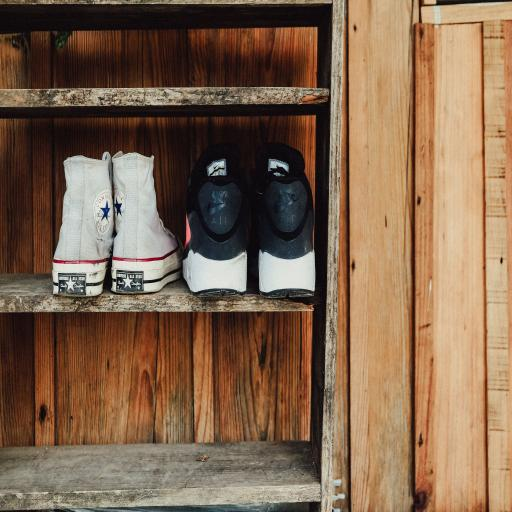shoe: (112, 152, 182, 293), (251, 143, 315, 297), (184, 144, 247, 296), (53, 152, 113, 295)
